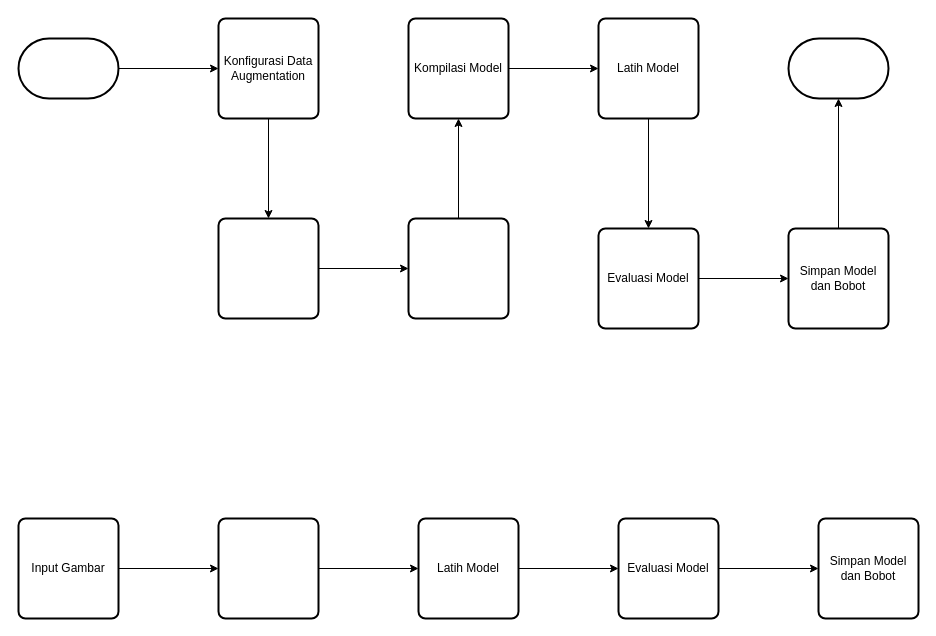
Some shapes in this 936 by 636 pixel diagram are drawn without their labels. The shapes that lost their labels are listed below. From the top down, each one's centre as x and y in pixels, then its label:
point (68, 68): Mulai
point (838, 68): Selesai
point (268, 268): Memuat Dataset Pelatihan
point (458, 268): Membangun Arsitektur Model CNN
point (268, 568): Preprocessing
